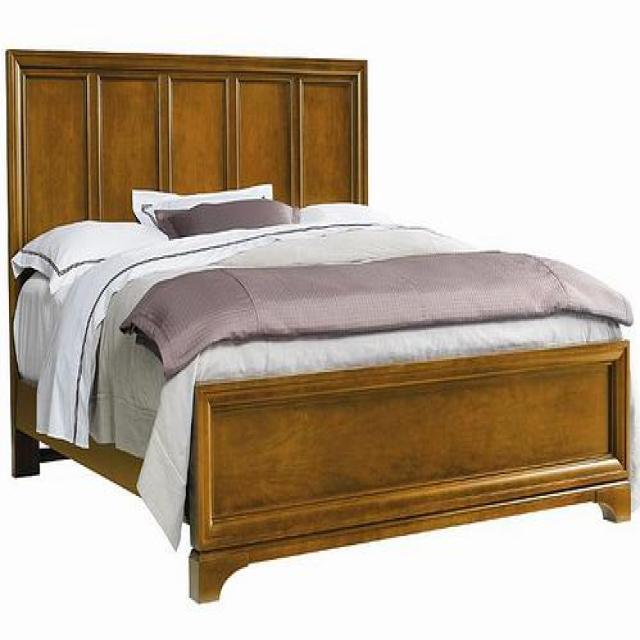bed: (3, 50, 634, 601)
